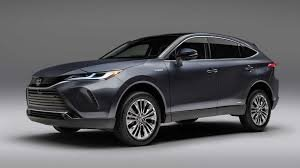mobil: (23, 29, 280, 146)
